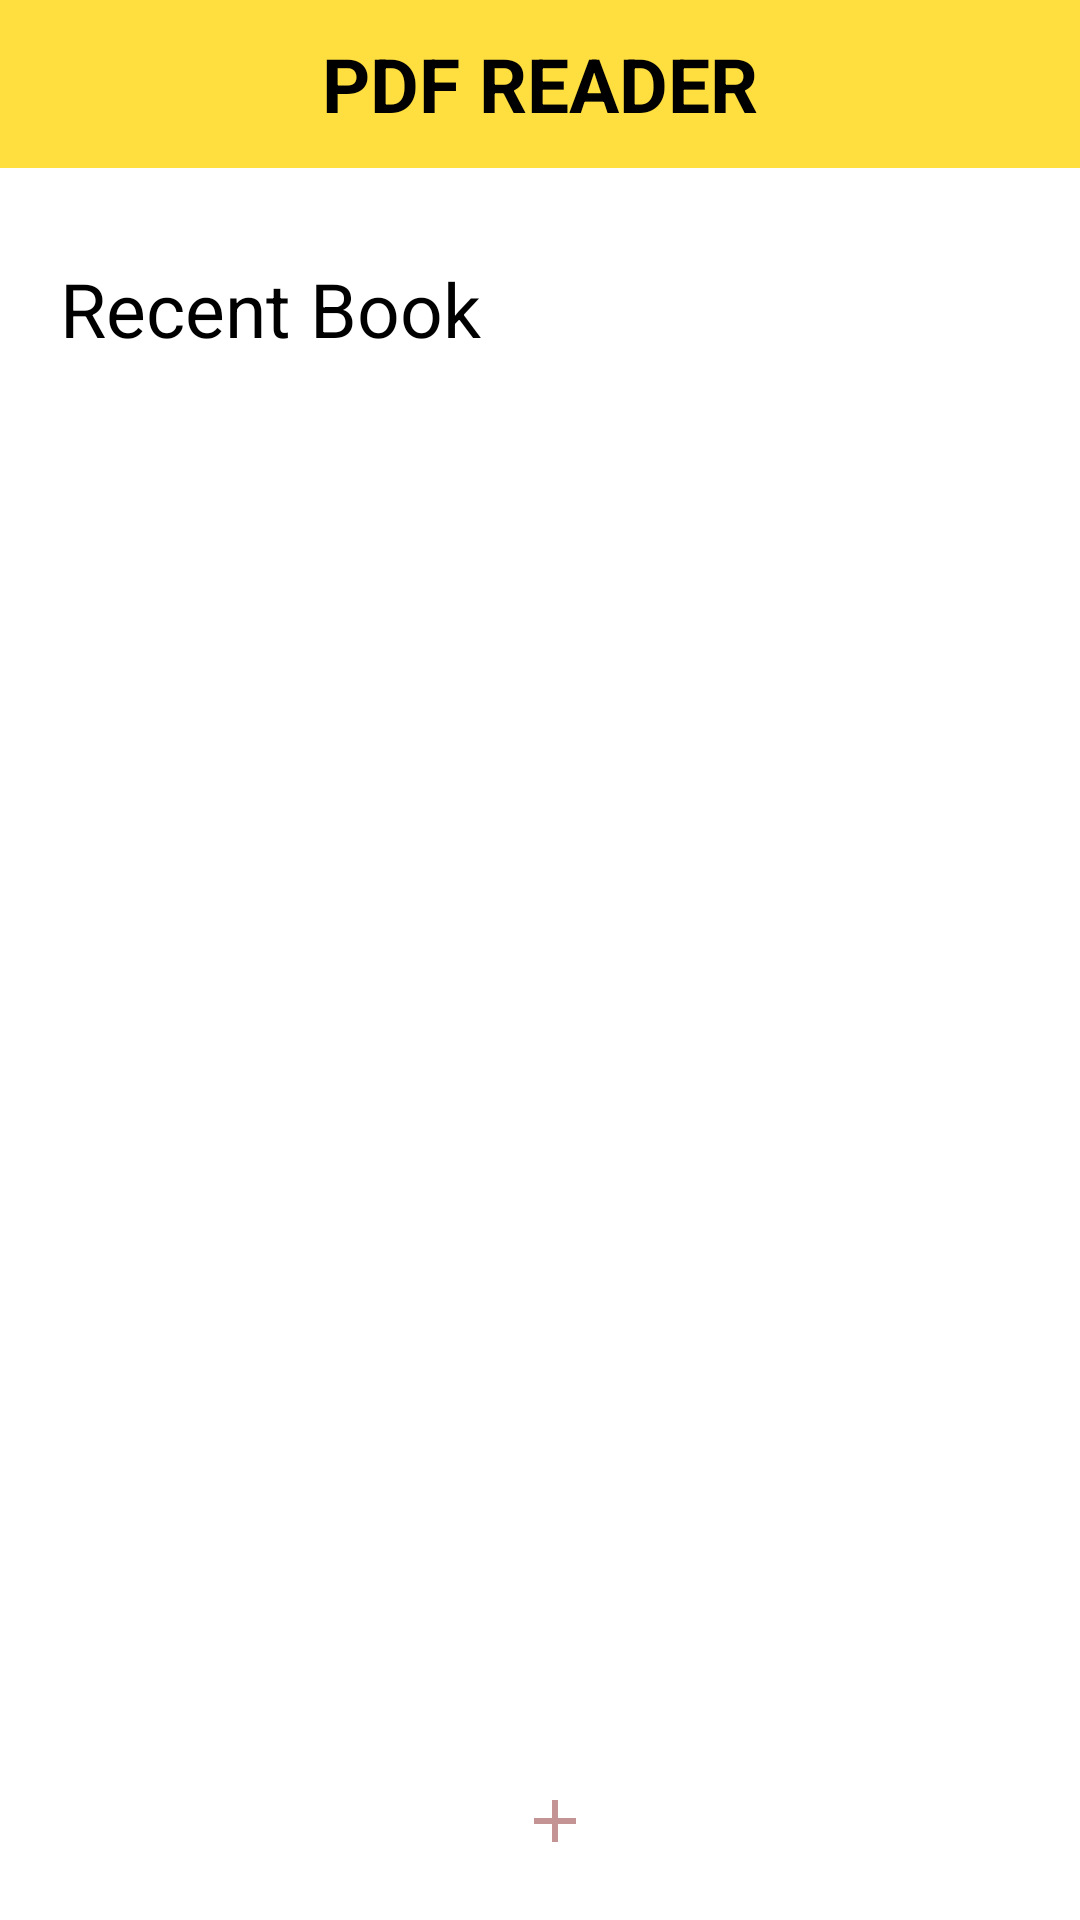

Where icons sit on this 1080w x 1920h app screen, as rect(x1, y1, x2, y2):
add: rect(534, 1800, 576, 1842)
